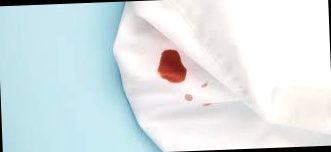blood: (155, 48, 187, 84)
